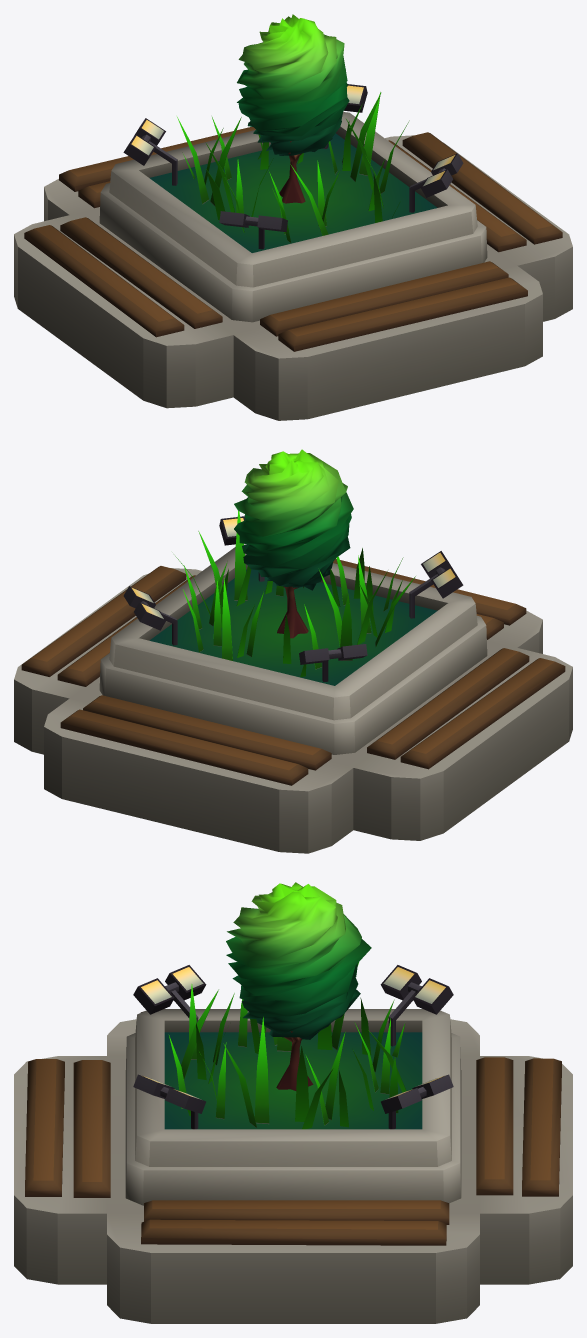
The model's file is tc_bench_2a_indoor.glb.
The picture shows the model from 3 angles, top to bottom: view 1: azimuth 30°, elevation 25°; view 2: azimuth 150°, elevation 25°; view 3: azimuth 270°, elevation 25°; orthographic projection. The views are drawn at different scales.
Parts seen in each view (by area): view 1: Bench_2A, Bench_2A_Tree, Bench_2A_Lights; view 2: Bench_2A, Bench_2A_Tree, Bench_2A_Lights; view 3: Bench_2A, Bench_2A_Tree, Bench_2A_Lights.
Boxes of the visible parts, box(x1,y1,x2,y2) form: Bench_2A: box(14, 92, 572, 420); Bench_2A_Tree: box(237, 14, 349, 203); Bench_2A_Lights: box(123, 84, 463, 249); Bench_2A: box(14, 511, 572, 853); Bench_2A_Tree: box(234, 449, 353, 638); Bench_2A_Lights: box(123, 516, 463, 682); Bench_2A: box(14, 962, 572, 1323); Bench_2A_Tree: box(226, 882, 371, 1090); Bench_2A_Lights: box(133, 965, 453, 1129).
Bounding box in the file's own units: 3.79 × 2.4 × 3.79.
2 materials, 2 textured.
